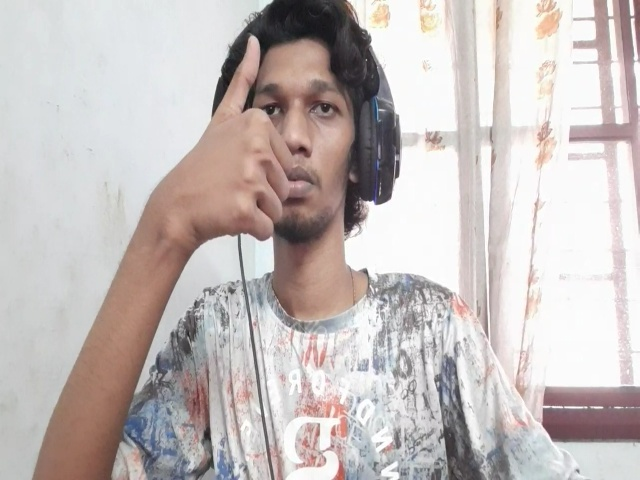ThumbsUp: (162, 34, 292, 241)
